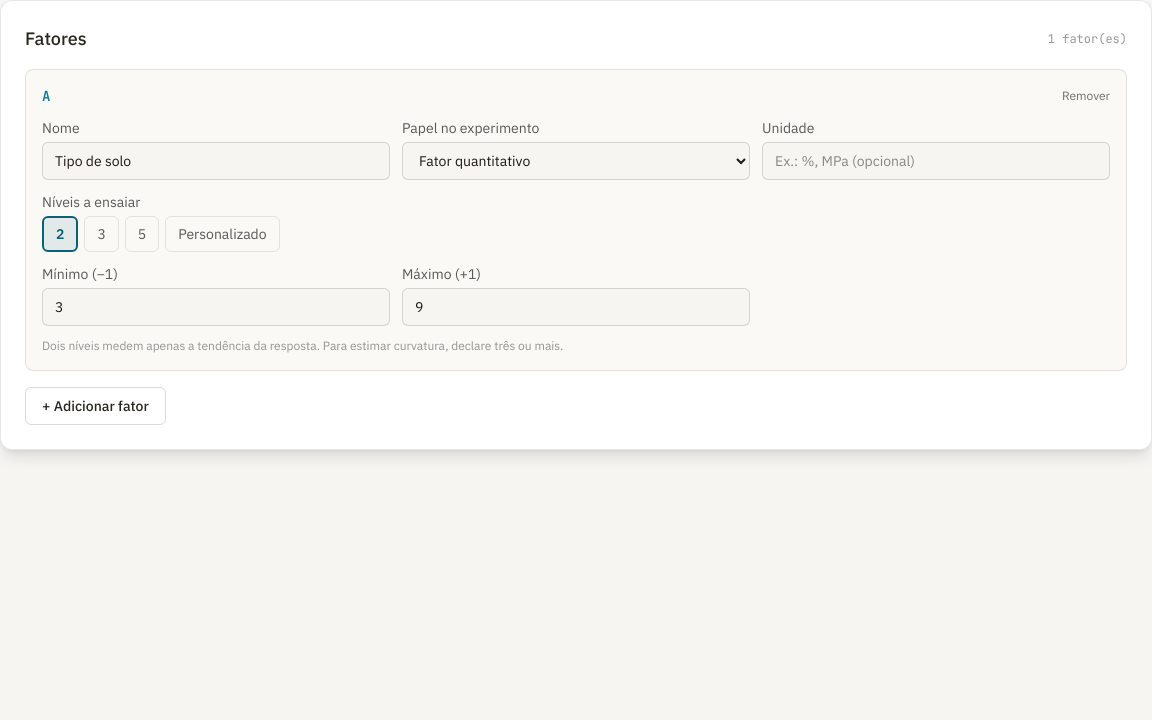
Test: FactorForm — seletor de papel no experimento › acrescentar categoria aumenta a contagem de blocos
Select "Bloco (2 ou mais)" in the dropdown labelled "Papel no experimento": (576, 161) [402, 142, 750, 180]
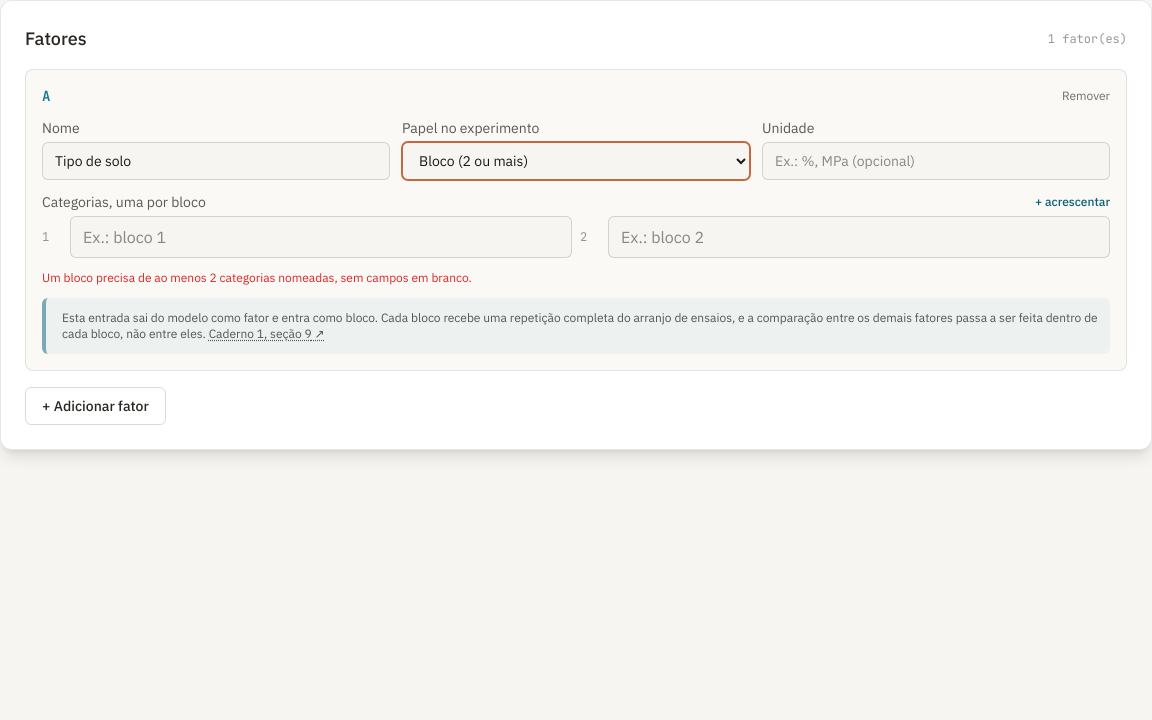
Click the button "+ acrescentar": (1072, 202) [1035, 194, 1110, 210]
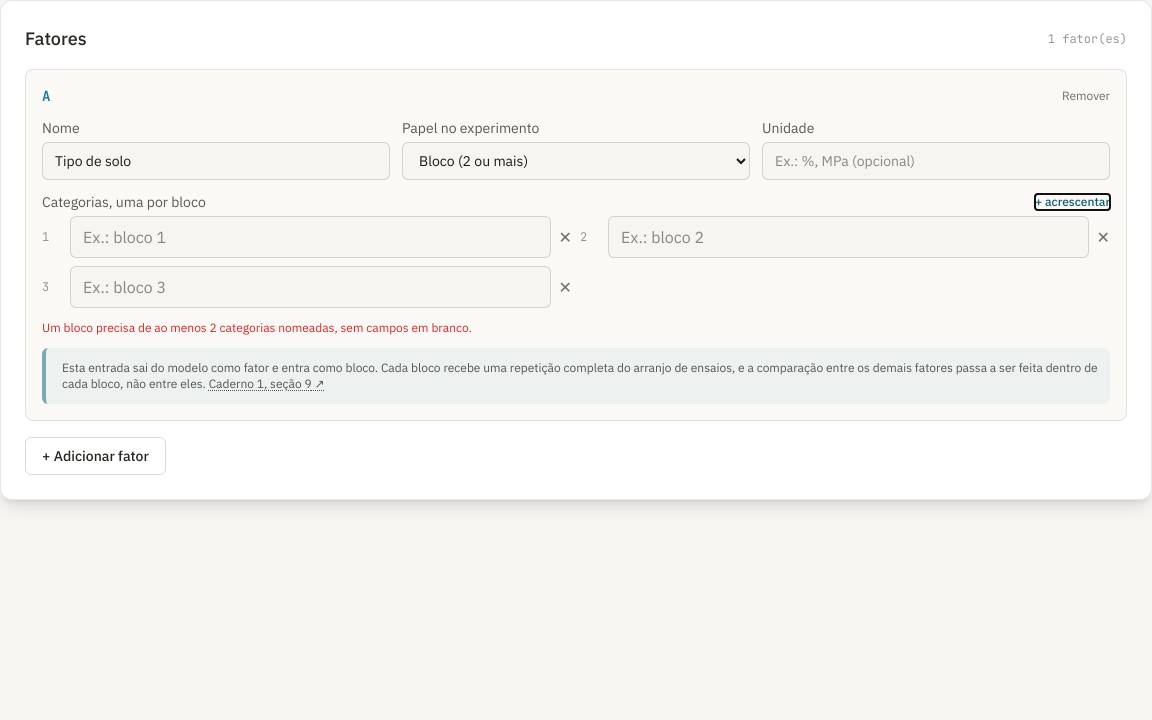
Check: the field labelled "bloco 1" is shown, box [70, 216, 551, 258]
Check: the field labelled "bloco 2" is shown, box [608, 216, 1089, 258]
Check: the field labelled "bloco 3" is shown, box [70, 266, 551, 308]
